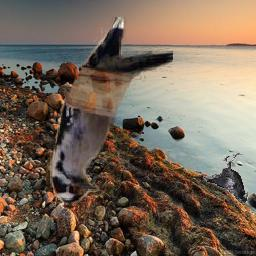Crow: (204, 153, 249, 203)
Woodpecker: (51, 17, 174, 203)
